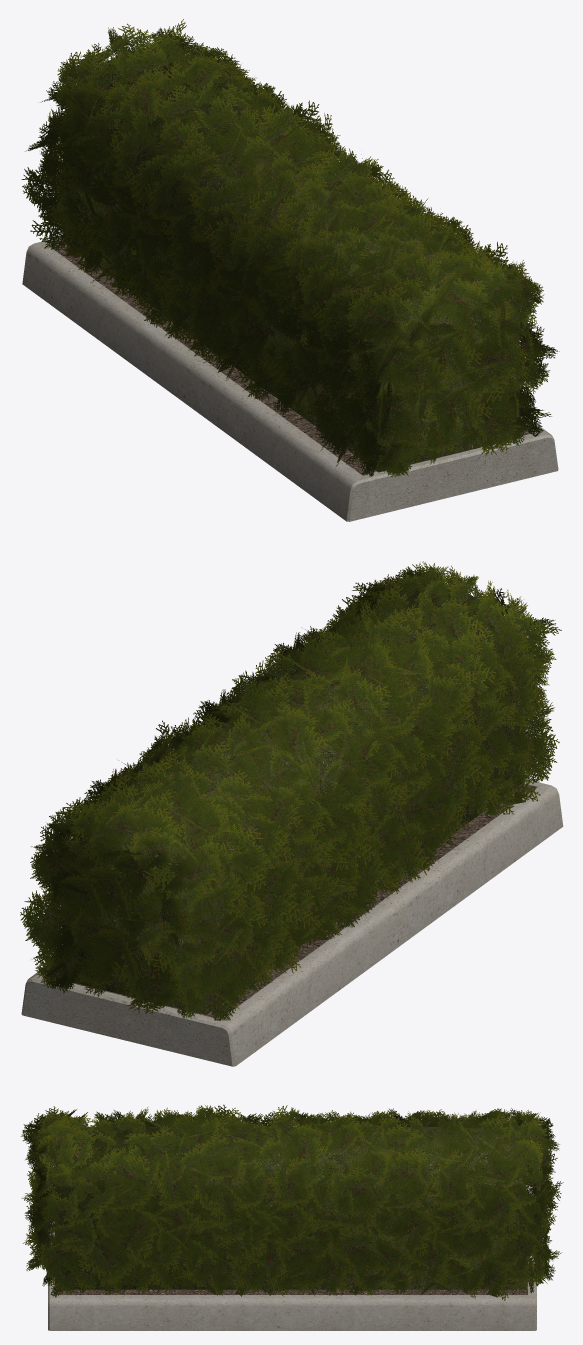
Rendered from hedge_02_2m.FBX.
The picture shows the model from 3 angles, top to bottom: view 1: azimuth 30°, elevation 25°; view 2: azimuth 150°, elevation 25°; view 3: azimuth 270°, elevation 25°; orthographic projection. The views are drawn at different scales.
Visible parts, largest first — view 1: hedge_02_2m; view 2: hedge_02_2m; view 3: hedge_02_2m.
Part boxes in pixels (x1,y1,x2,y2): hedge_02_2m: (21, 19, 559, 521); hedge_02_2m: (20, 561, 563, 1066); hedge_02_2m: (20, 1104, 563, 1330).
Bounding box in the file's own units: 79.88 × 83.2 × 227.
